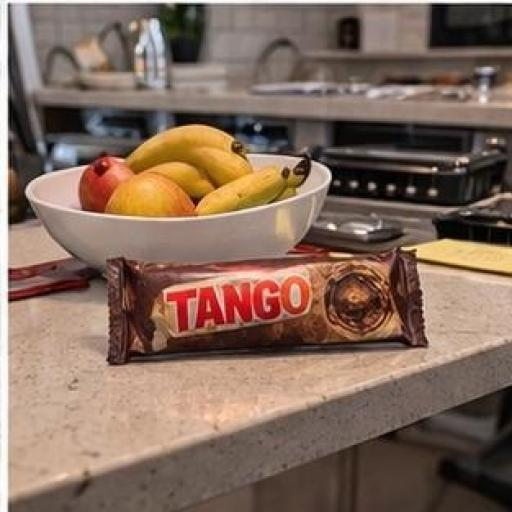tango: (105, 186, 430, 396)
